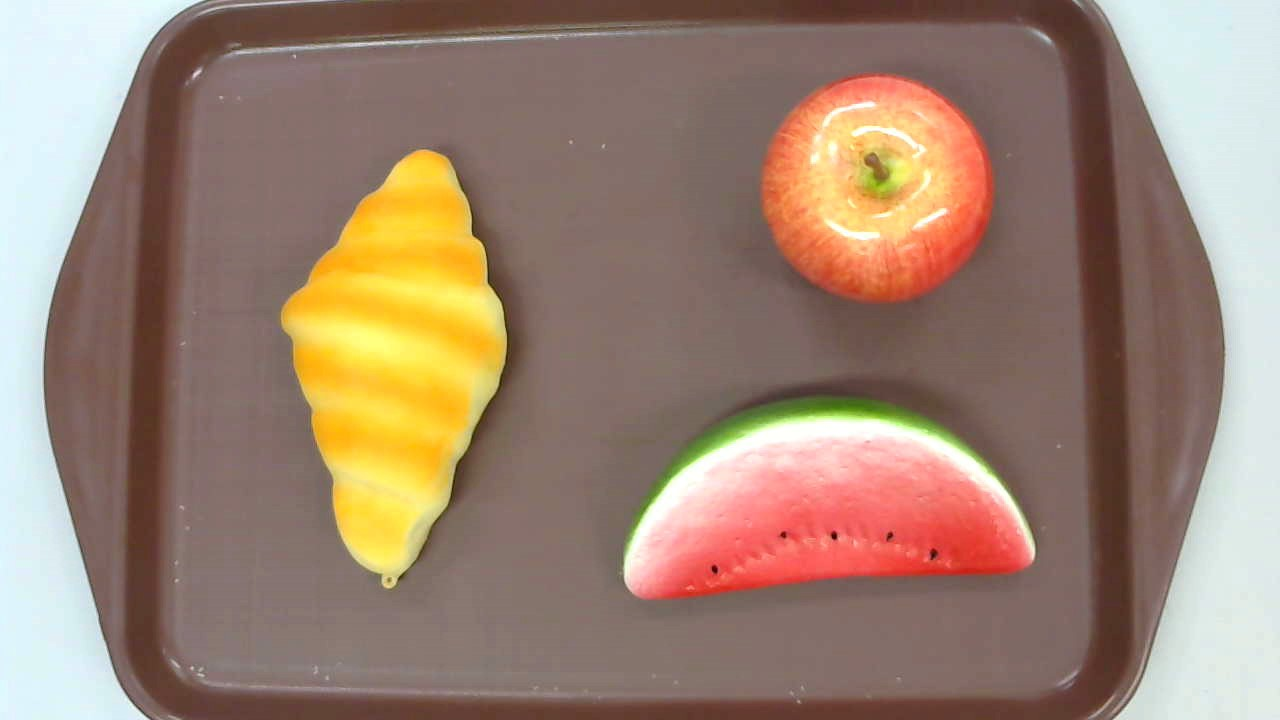croissant: (279, 150, 506, 593)
red apple: (761, 72, 994, 304)
water melon: (622, 393, 1035, 602)
